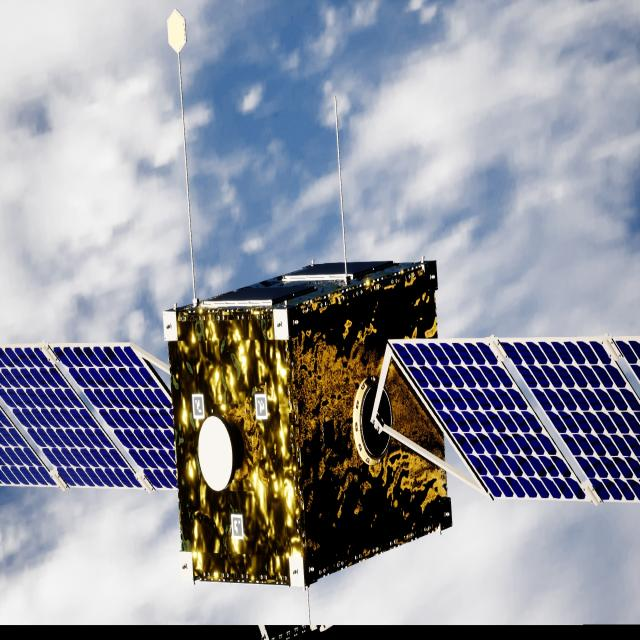medium_debris: (0, 261, 640, 588)
